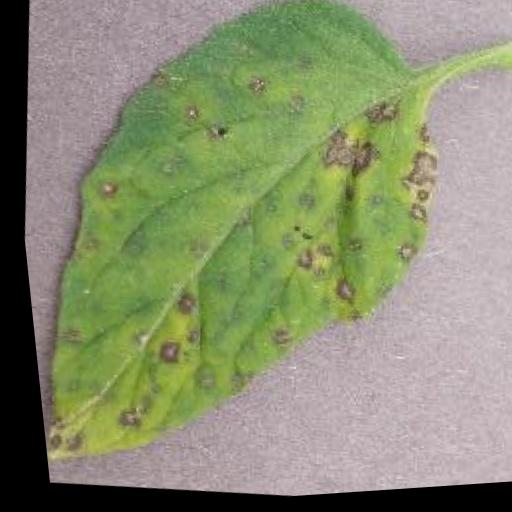Septoria: (0, 0, 485, 508)
